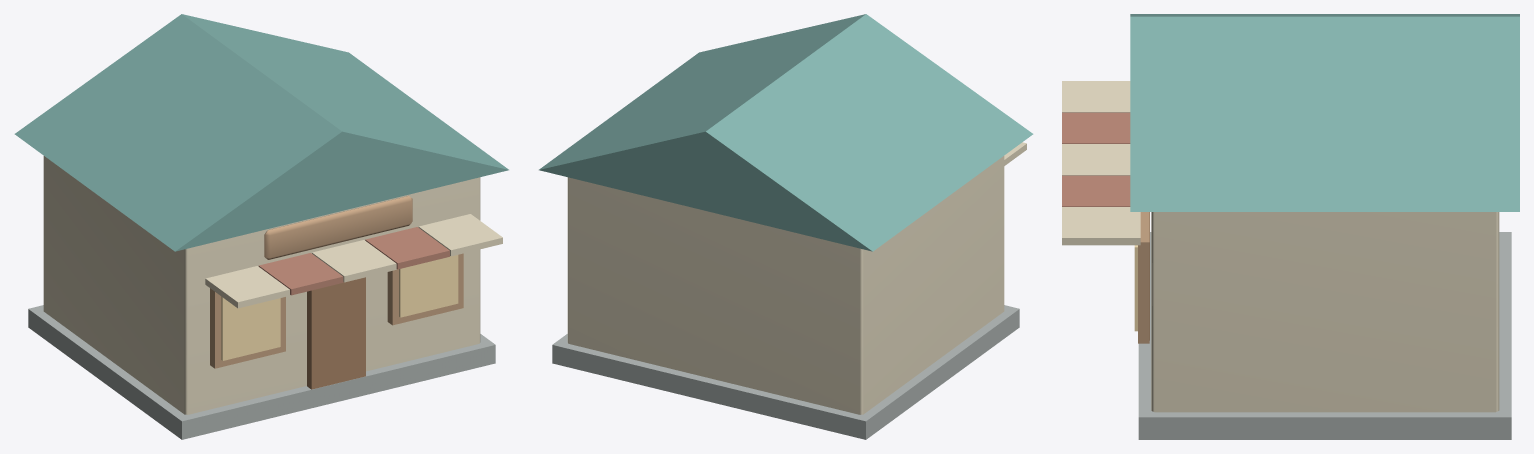
File: pottery-studio.glb
3 views of the same model, side by side, from view 1: azimuth 30°, elevation 25°; view 2: azimuth 150°, elevation 25°; view 3: azimuth 270°, elevation 25° (orthographic). The views are drawn at different scales.
Visible parts, largest first — view 1: Pottery studio roof, Pottery studio shop walls, Pottery studio plinth, Shop door, Store sign, Display glass, Display glass.001, Striped shop canopy, Striped shop canopy.001, Striped shop canopy.002, Striped shop canopy.003, Striped shop canopy.004 (+2 smaller); view 2: Pottery studio shop walls, Pottery studio roof, Pottery studio plinth; view 3: Pottery studio roof, Pottery studio shop walls, Pottery studio plinth, Striped shop canopy.004, Striped shop canopy, Striped shop canopy.002, Striped shop canopy.001, Striped shop canopy.003, Display window frame.001.
Boxes of the visible parts, x1,y1,x2,y2 form: Pottery studio roof: (14,14,508,251); Pottery studio shop walls: (43,156,480,414); Pottery studio plinth: (28,305,495,439); Shop door: (307,277,365,389); Store sign: (264,196,412,259); Display glass: (221,296,280,360); Display glass.001: (399,255,458,317); Striped shop canopy: (205,266,289,308); Striped shop canopy.001: (258,253,343,295); Striped shop canopy.002: (312,240,396,282); Striped shop canopy.003: (365,227,449,269); Striped shop canopy.004: (418,214,502,256); Pottery studio shop walls: (567,156,1004,414); Pottery studio roof: (539,14,1033,251); Pottery studio plinth: (552,305,1019,439); Pottery studio roof: (1130,14,1519,211); Pottery studio shop walls: (1151,212,1499,412); Pottery studio plinth: (1138,232,1511,439); Striped shop canopy.004: (1062,207,1140,245); Striped shop canopy: (1062,81,1130,112); Striped shop canopy.002: (1062,144,1130,175); Striped shop canopy.001: (1062,112,1130,143); Striped shop canopy.003: (1062,175,1130,206); Display window frame.001: (1138,212,1149,343).
Bounding box in the file's own units: 5.65 × 4.4 × 5.52.
